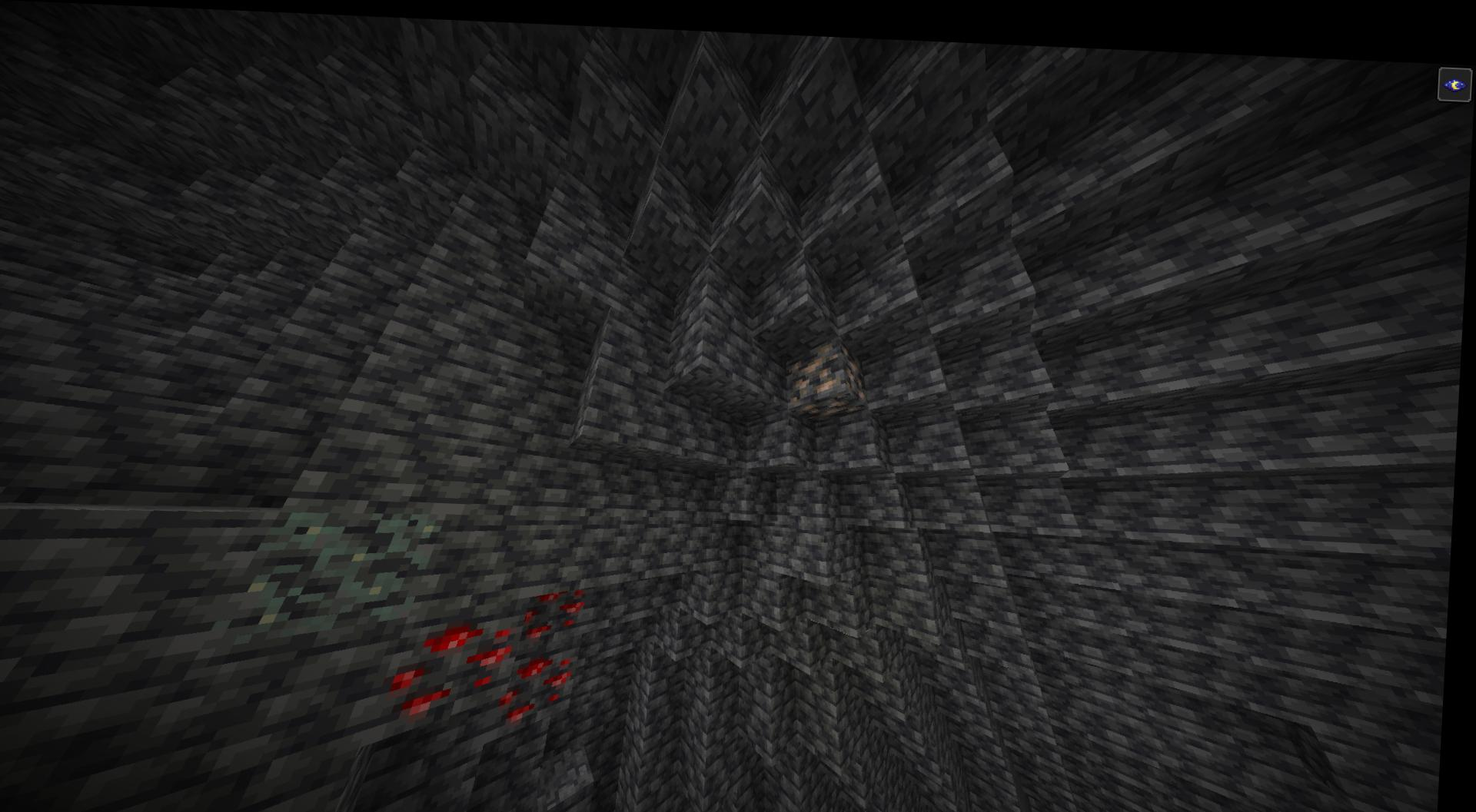iron ore: (788, 336, 870, 415)
redstone ore: (398, 614, 516, 708), (513, 644, 585, 716), (521, 575, 591, 631)
